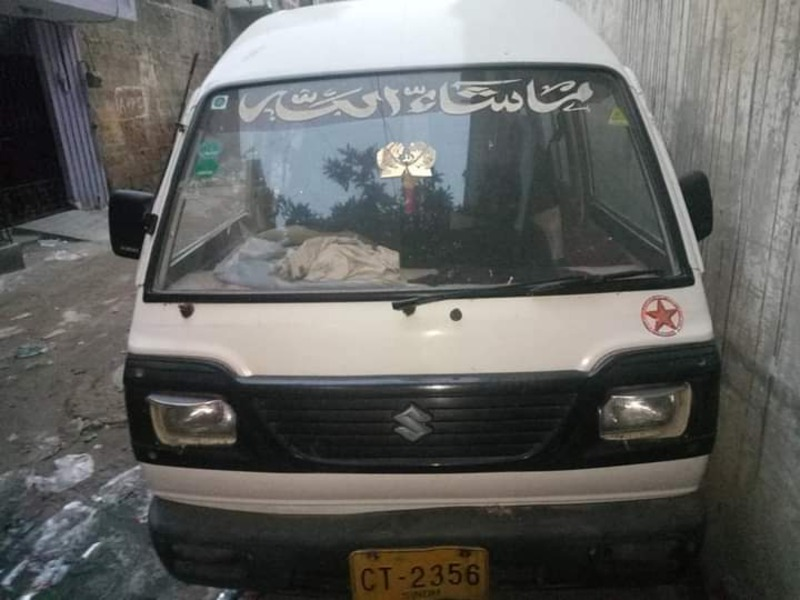License Plate: (342, 541, 494, 597)
